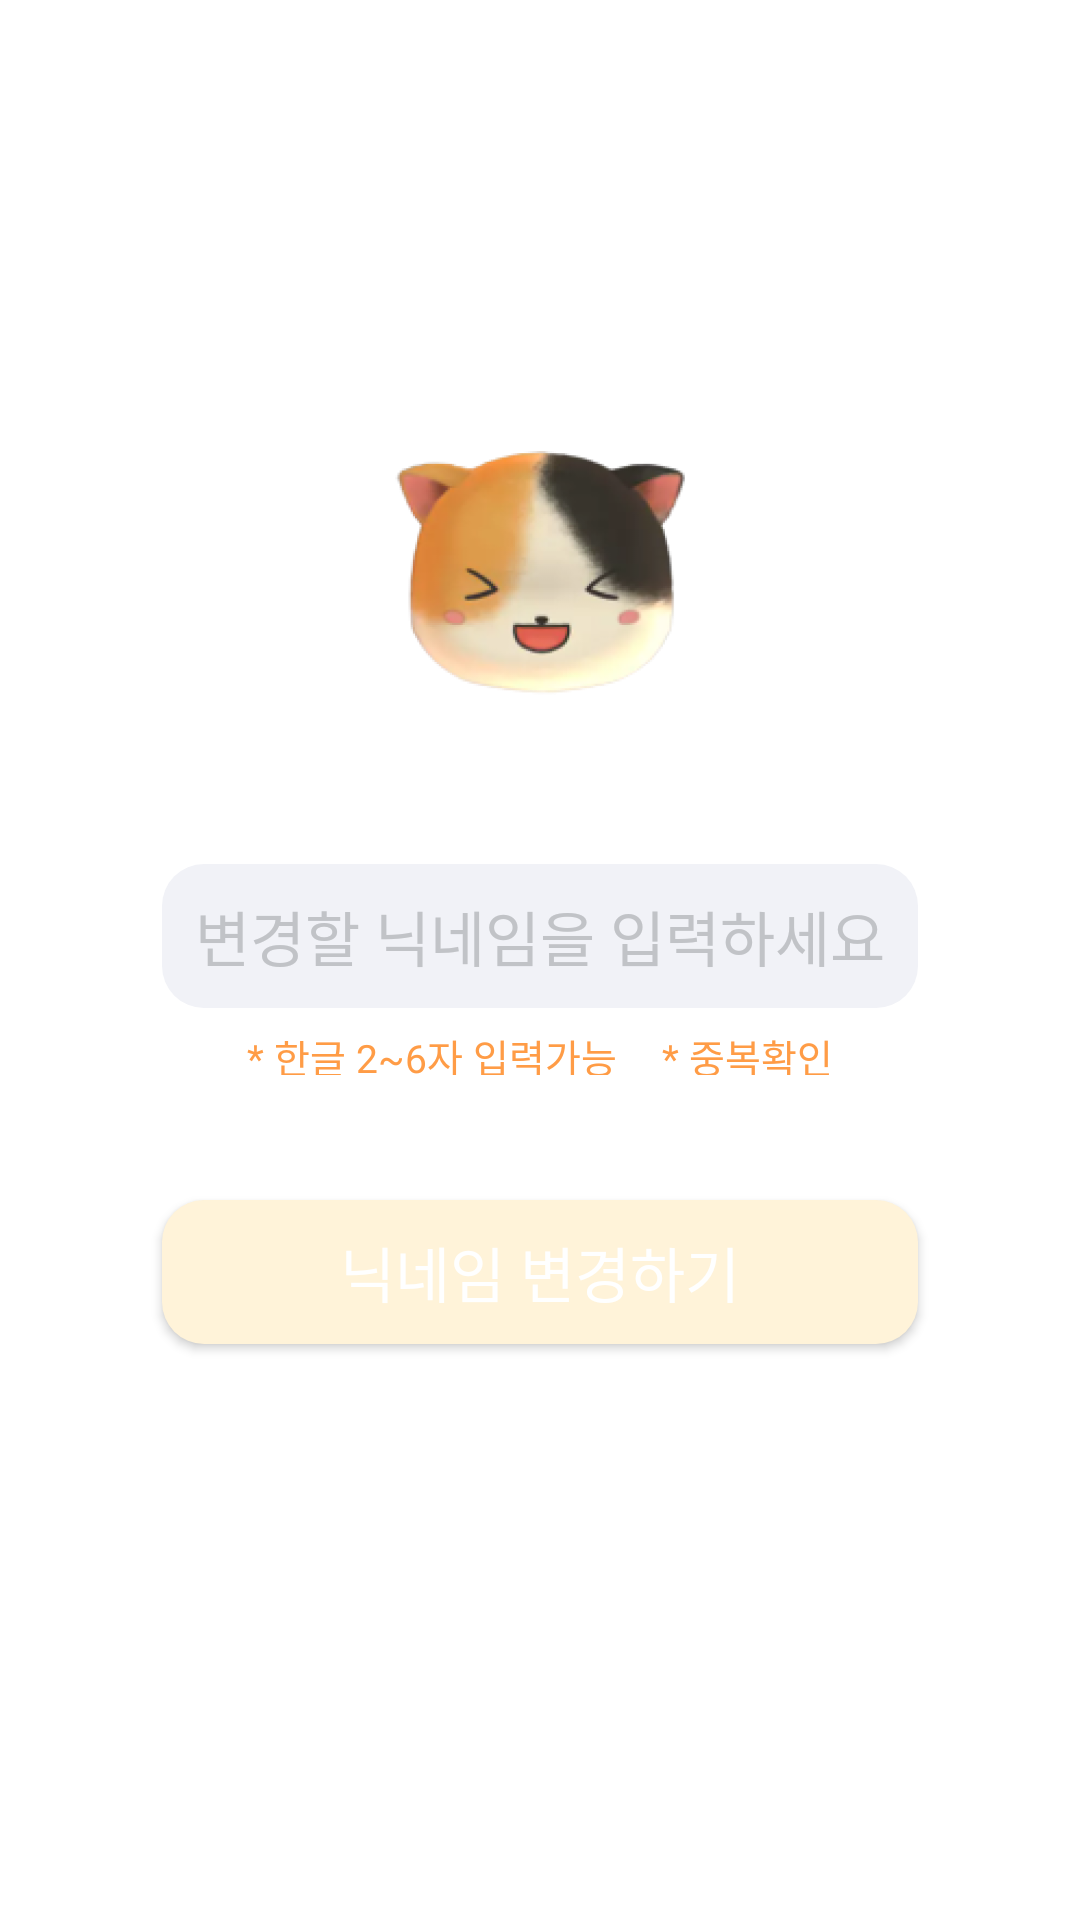

Named icons in this screenshot (1080 × 1920) and their bounding boxes, [x1, y1, x2, y2]:
cat face: [397, 451, 685, 692]
